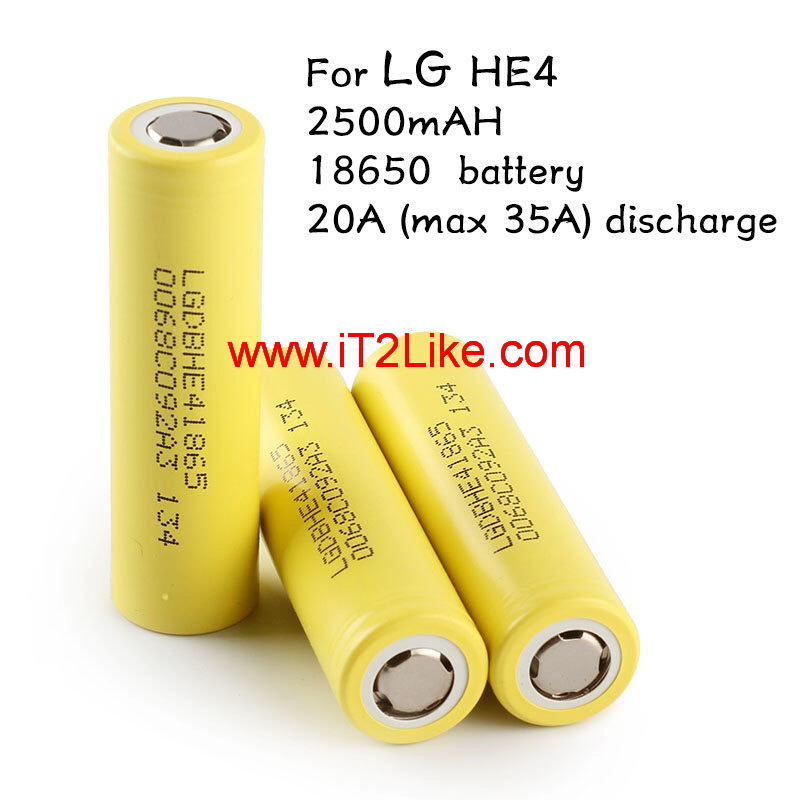Battery: (347, 327, 645, 733), (254, 337, 493, 748), (101, 90, 272, 644)
